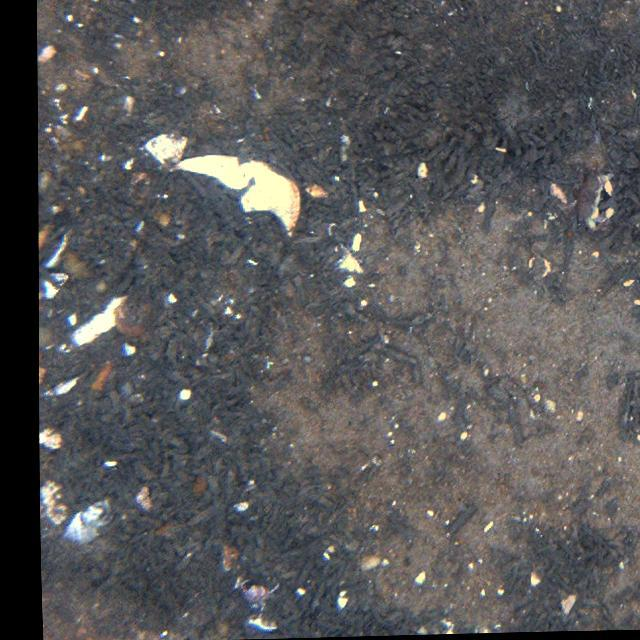crab: (576, 167, 616, 234)
